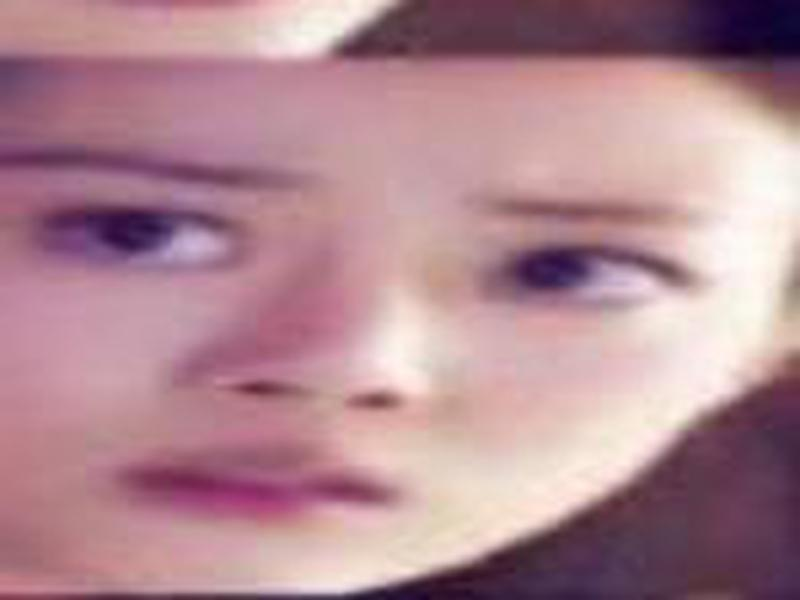without_mask: (12, 65, 783, 600)
